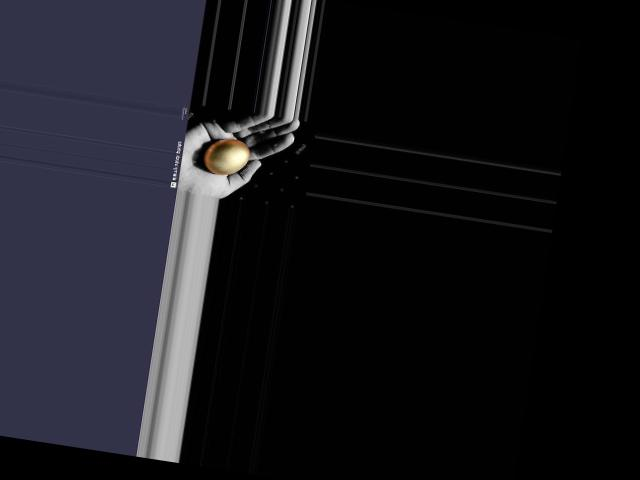egg: (203, 135, 252, 177)
